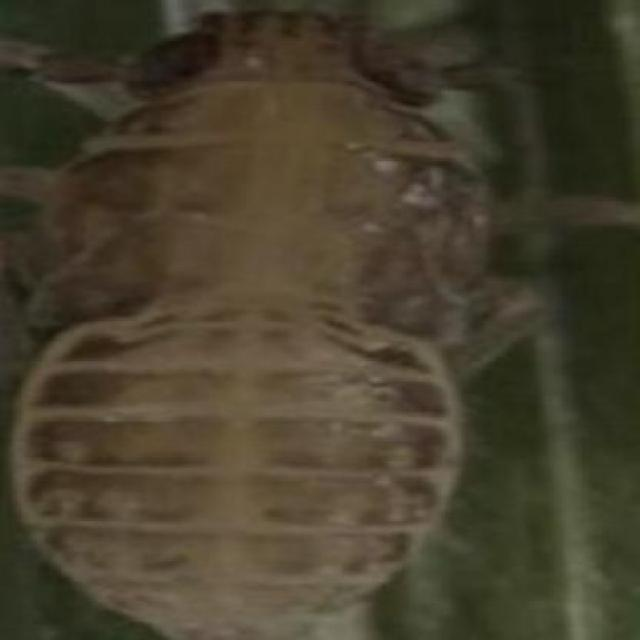brown-planthopper: (0, 12, 485, 640)
